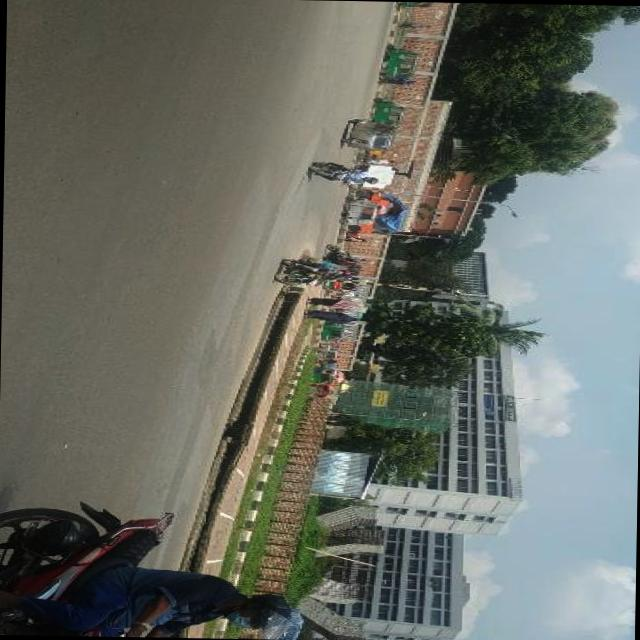motorcycle: (0, 499, 306, 639), (340, 120, 393, 152), (274, 256, 324, 288), (379, 44, 419, 81), (306, 160, 354, 188), (339, 194, 378, 227), (372, 98, 408, 126), (322, 321, 346, 342), (324, 244, 346, 266), (320, 282, 354, 294), (318, 344, 336, 360), (310, 373, 333, 384), (312, 359, 337, 369)
